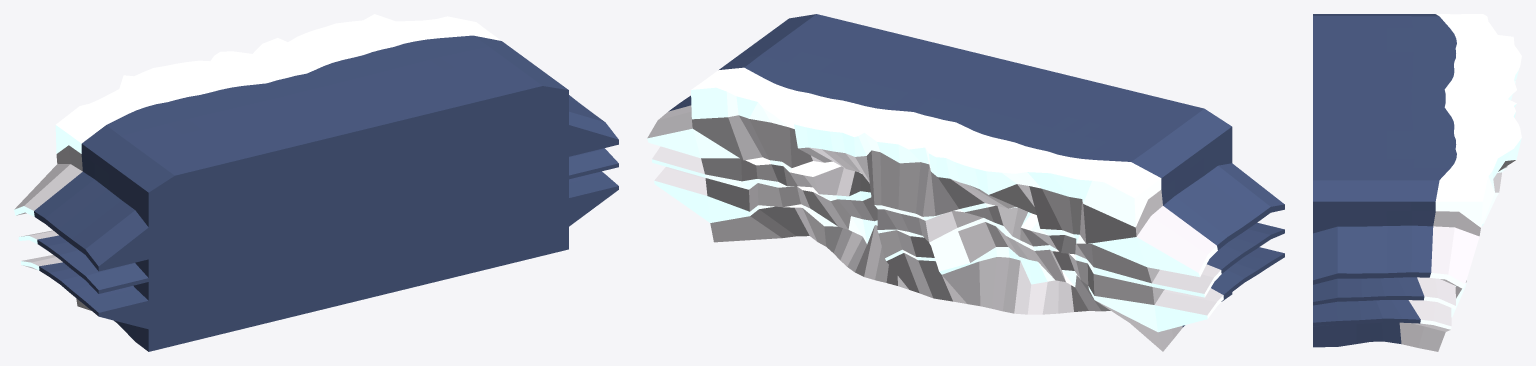
Rendered from hallwayfloorcracked_ledgebaked.fbx.
3 views of the same model, side by side, from view 1: azimuth 30°, elevation 25°; view 2: azimuth 150°, elevation 25°; view 3: azimuth 270°, elevation 25° (orthographic). The views are drawn at different scales.
Parts seen in each view (by area): view 1: HallFloorPlatform_BRK_LEDGE; view 2: HallFloorPlatform_BRK_LEDGE; view 3: HallFloorPlatform_BRK_LEDGE.
Boxes of the visible parts, x1,y1,x2,y2 form: HallFloorPlatform_BRK_LEDGE: [14, 14, 618, 351]; HallFloorPlatform_BRK_LEDGE: [647, 14, 1284, 351]; HallFloorPlatform_BRK_LEDGE: [1313, 14, 1521, 351].
Size of the model in its own units: 646 by 211 by 244.
